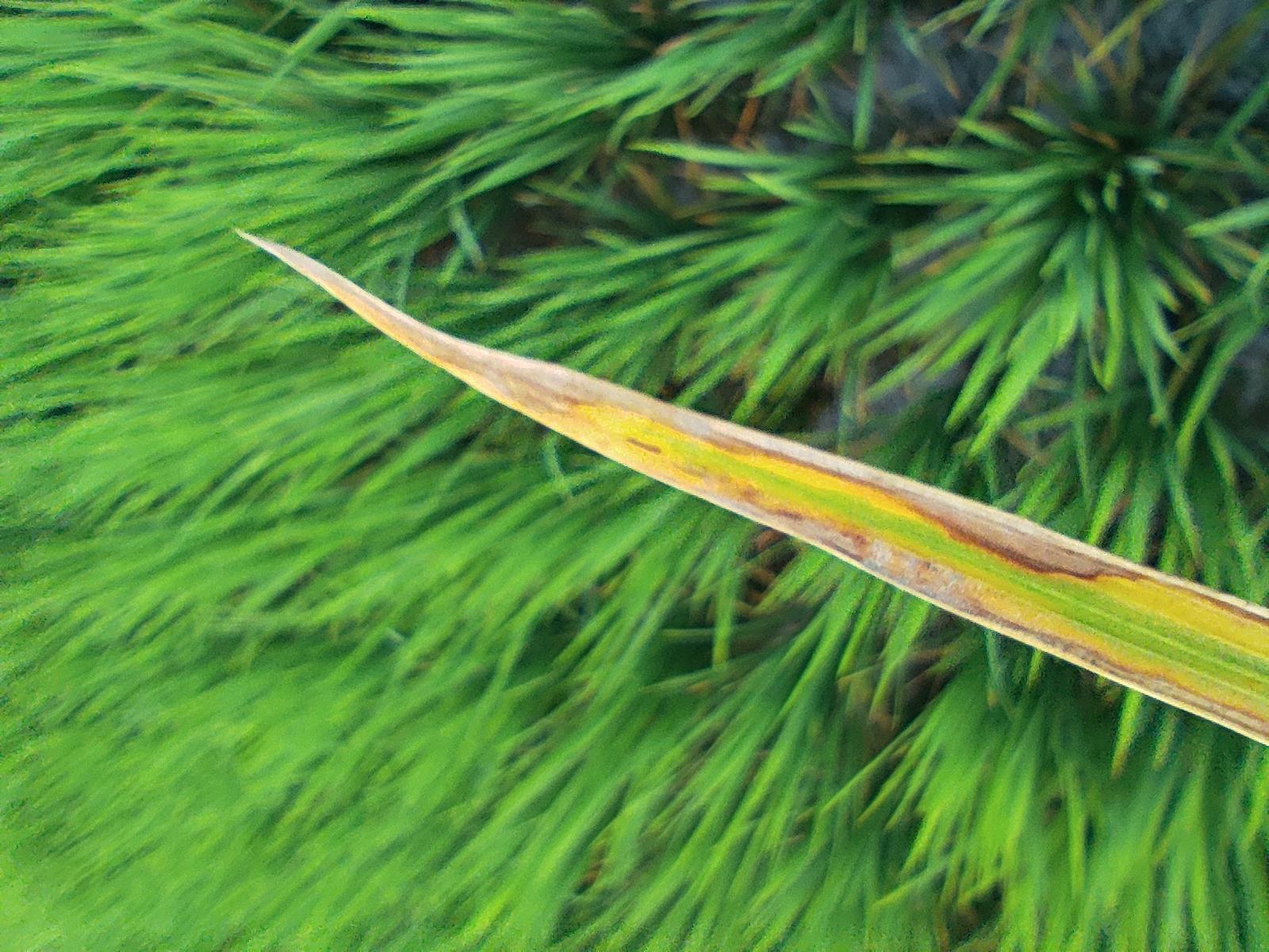BLB: (433, 179, 962, 951), (276, 484, 655, 951)
LEAF: (277, 178, 962, 951)
